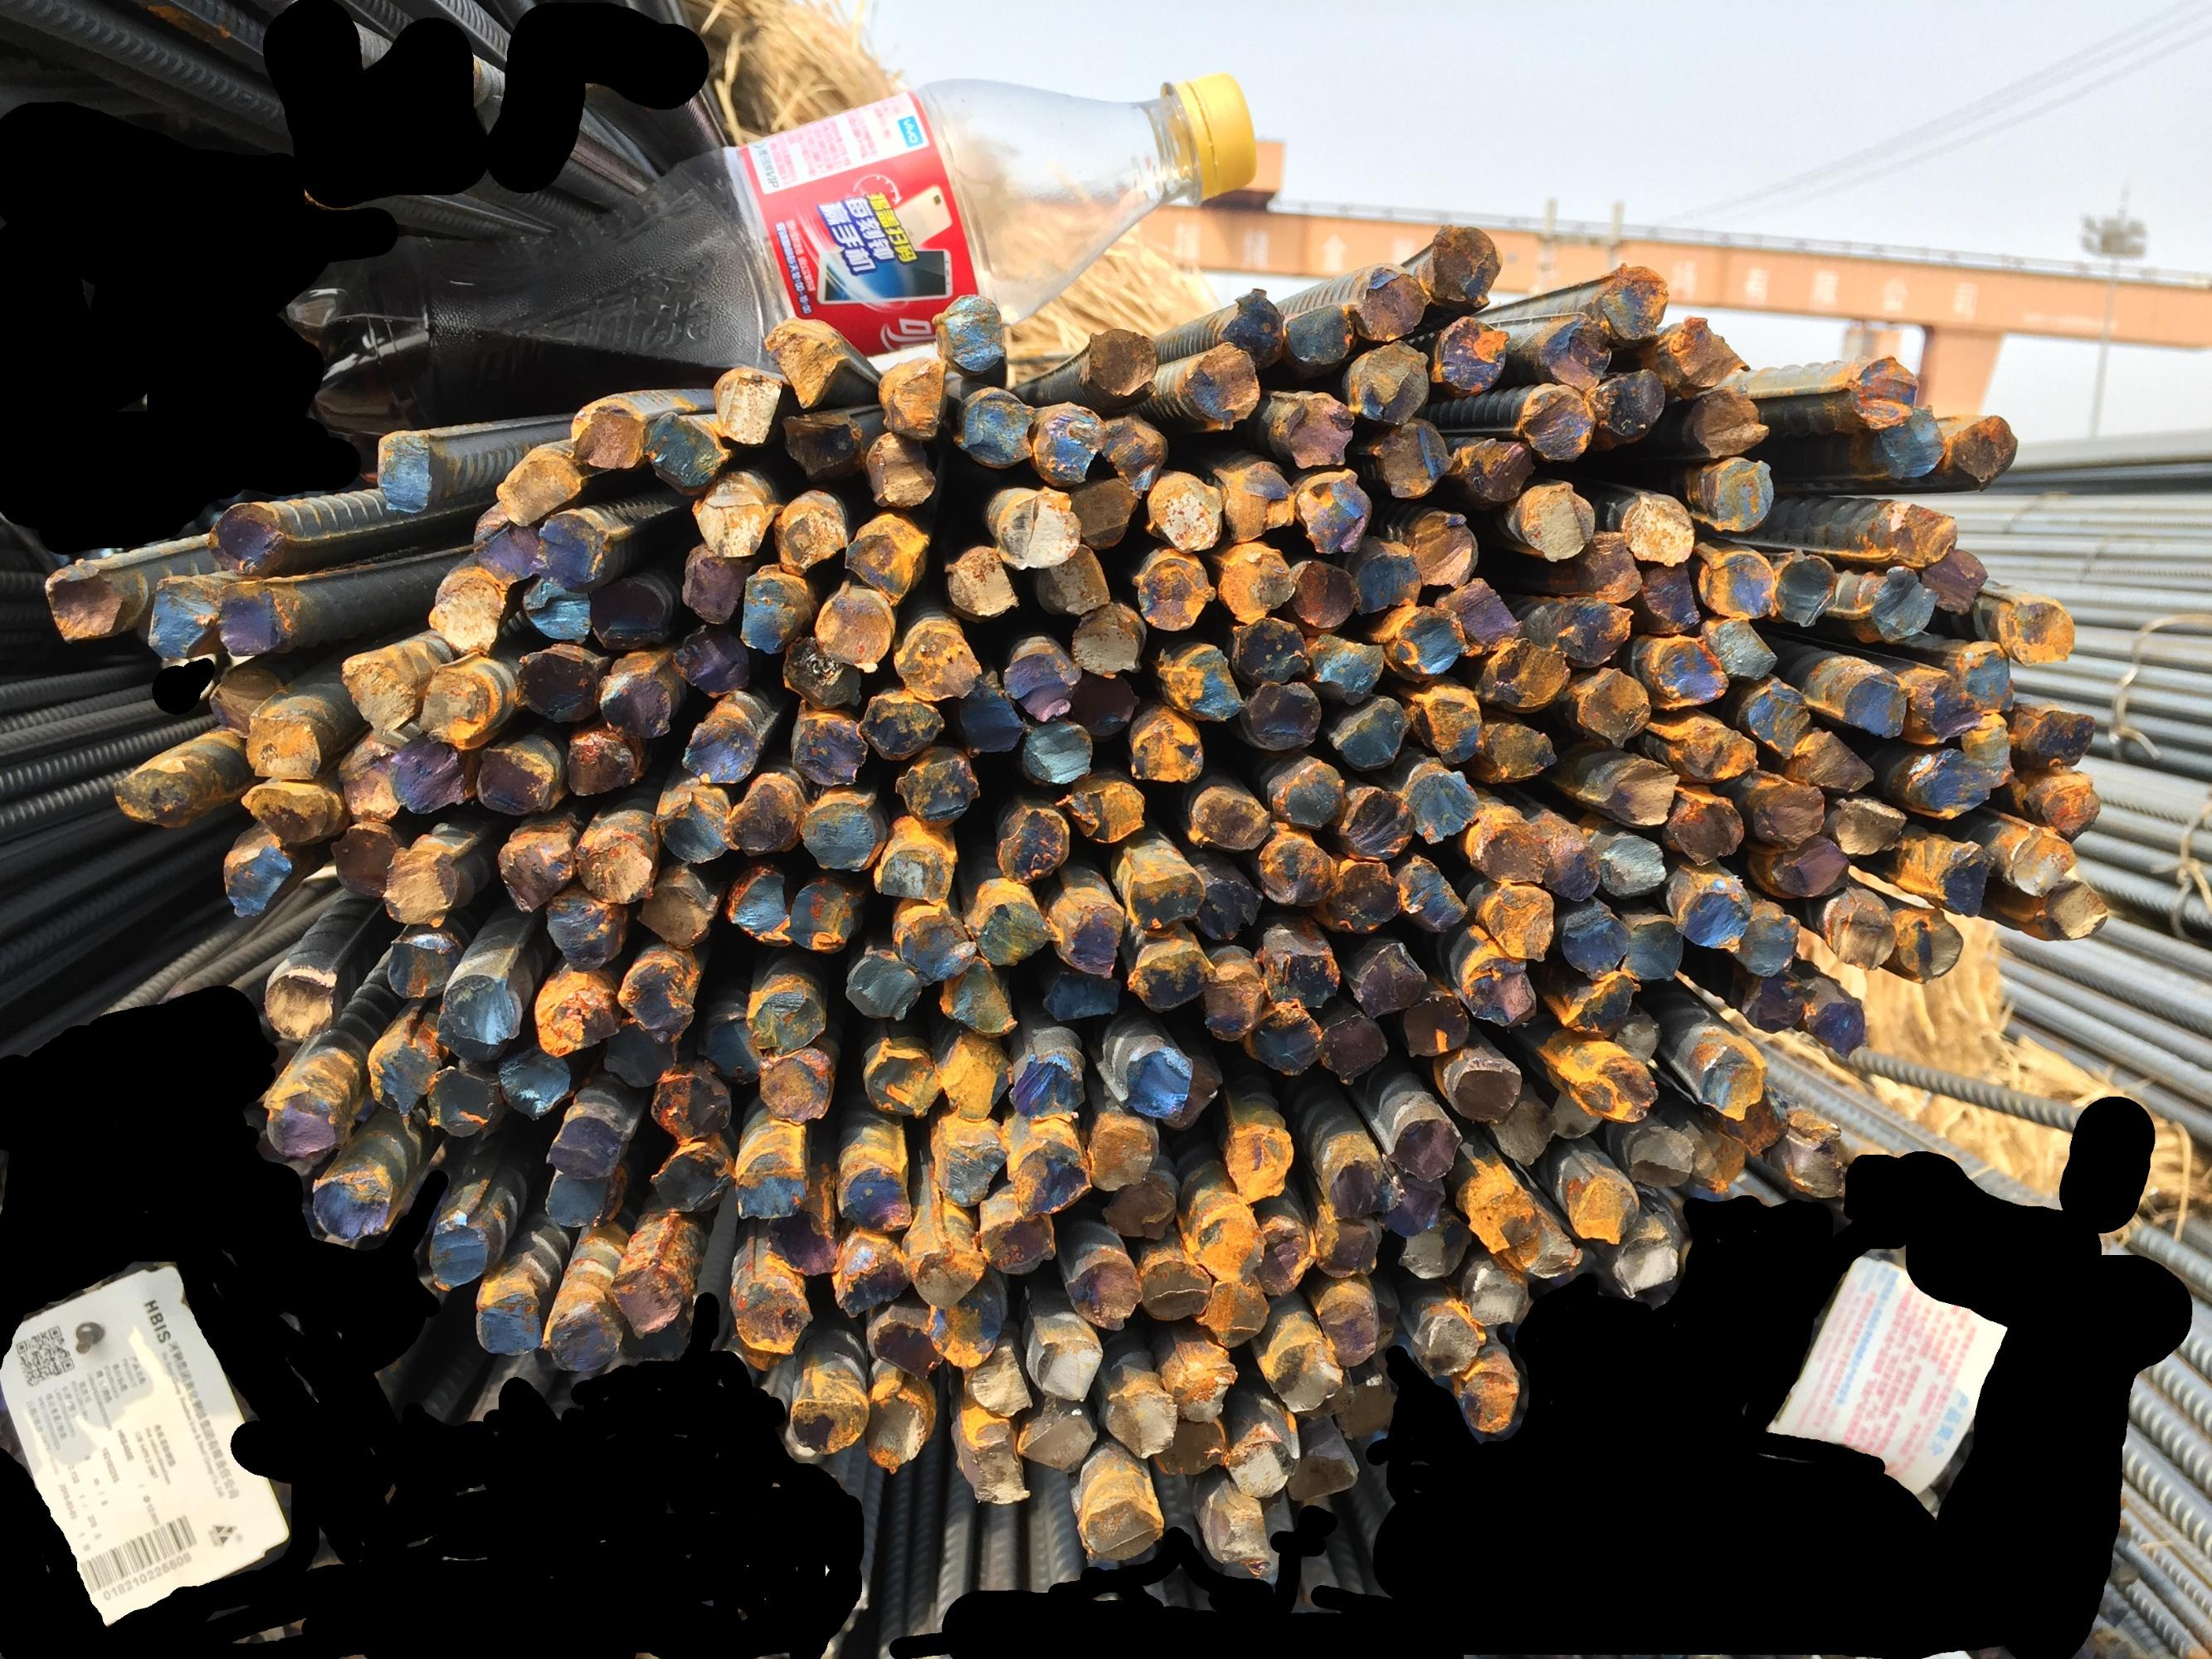bar: (844, 511, 931, 605), (427, 566, 516, 657), (40, 554, 127, 647), (762, 315, 847, 410), (526, 511, 626, 591), (812, 580, 896, 671), (995, 483, 1081, 570), (892, 744, 981, 828), (493, 446, 584, 528), (235, 779, 343, 847), (1368, 415, 1454, 500), (892, 619, 981, 701), (380, 845, 465, 929), (542, 889, 628, 972), (1347, 340, 1431, 425), (1473, 638, 1571, 711), (533, 976, 621, 1058), (690, 476, 777, 558), (788, 699, 868, 788), (261, 1084, 352, 1162), (1182, 342, 1260, 432), (495, 826, 575, 913), (387, 730, 469, 814), (643, 411, 727, 493), (1006, 1136, 1091, 1216), (1157, 643, 1245, 721), (1398, 767, 1485, 845), (1433, 575, 1520, 653), (948, 669, 1025, 758), (1661, 312, 1750, 389), (112, 758, 206, 829), (1349, 260, 1431, 342), (336, 650, 417, 734), (953, 385, 1034, 469), (512, 645, 598, 723), (891, 906, 976, 985), (1572, 666, 1651, 751), (202, 498, 289, 575), (364, 1030, 441, 1117), (417, 662, 492, 751), (938, 1033, 1013, 1122), (730, 1274, 812, 1354), (1001, 640, 1081, 721), (1060, 1251, 1142, 1331), (1429, 312, 1510, 394), (786, 1380, 870, 1459), (615, 958, 694, 1042), (1130, 554, 1215, 631), (1644, 634, 1729, 711), (1429, 221, 1504, 308), (145, 572, 218, 660), (474, 742, 563, 816), (647, 1141, 736, 1215), (436, 972, 528, 1042), (798, 791, 880, 870), (1858, 565, 1937, 647), (1865, 403, 1947, 481), (1689, 1039, 1768, 1121), (655, 781, 732, 864), (770, 491, 847, 575), (929, 293, 1006, 376), (1295, 469, 1372, 552), (310, 1168, 396, 1243), (465, 498, 540, 584), (1381, 605, 1466, 680), (1686, 383, 1771, 458), (1053, 887, 1124, 976), (940, 542, 1018, 622), (1276, 387, 1354, 467), (1142, 474, 1222, 552), (940, 957, 1018, 1037), (261, 962, 343, 1039), (1328, 694, 1410, 770), (1518, 479, 1595, 561), (678, 540, 753, 624), (779, 877, 863, 951), (1454, 953, 1537, 1028), (1126, 946, 1217, 1014), (992, 803, 1070, 882), (1839, 352, 1917, 430), (1618, 486, 1694, 566), (540, 1298, 622, 1373), (781, 634, 863, 709), (1262, 1337, 1344, 1412), (1536, 310, 1611, 392), (971, 892, 1055, 965), (777, 411, 863, 483), (858, 690, 945, 760), (1075, 1492, 1164, 1560), (608, 1262, 685, 1340), (673, 622, 751, 699), (861, 1040, 940, 1117), (1351, 941, 1428, 1019), (1907, 666, 1984, 744), (723, 775, 798, 856), (1117, 1040, 1192, 1121), (328, 819, 401, 901), (572, 829, 654, 903), (709, 364, 783, 446), (1408, 683, 1482, 765), (648, 1072, 732, 1143), (723, 864, 793, 950), (1572, 1054, 1658, 1124), (1595, 758, 1680, 828), (865, 1385, 933, 1473), (1217, 286, 1285, 373), (218, 843, 295, 920), (568, 394, 645, 471), (844, 946, 922, 1021), (1069, 601, 1147, 676), (1520, 383, 1595, 462), (959, 1424, 1030, 1506), (875, 356, 947, 437), (1947, 411, 2019, 493), (1663, 721, 1759, 782), (544, 1110, 628, 1180), (1035, 401, 1105, 484), (743, 986, 828, 1054), (1762, 831, 1849, 897), (833, 1243, 910, 1317), (1217, 547, 1293, 622), (1564, 1169, 1640, 1244), (497, 1040, 570, 1119), (1408, 1304, 1487, 1377), (1306, 633, 1384, 706), (1696, 544, 1774, 617), (336, 735, 401, 824), (589, 575, 669, 647), (1259, 835, 1339, 906), (1598, 260, 1670, 340), (1914, 746, 1994, 817), (242, 709, 324, 779), (903, 1239, 985, 1309), (634, 880, 716, 950), (1877, 498, 1959, 568), (737, 563, 798, 655), (927, 1293, 1002, 1368), (758, 1051, 833, 1126), (1102, 1168, 1177, 1243), (1102, 1382, 1177, 1457), (1670, 791, 1745, 866), (1835, 666, 1910, 741), (207, 666, 284, 739), (598, 666, 675, 739), (866, 1307, 943, 1380), (1222, 467, 1295, 544), (1462, 1178, 1539, 1251), (833, 1161, 912, 1232), (865, 430, 936, 509), (1483, 884, 1555, 962), (1229, 615, 1309, 685), (1673, 880, 1754, 950), (694, 1004, 762, 1086), (1743, 676, 1811, 758), (678, 716, 762, 782), (1328, 861, 1401, 936), (1591, 364, 1665, 439), (2003, 591, 2076, 666), (938, 1131, 1009, 1208), (1088, 1115, 1159, 1192), (2001, 824, 2078, 896), (373, 427, 436, 514), (1018, 1405, 1096, 1474), (1558, 901, 1628, 979), (1747, 775, 1825, 845), (1410, 507, 1478, 587), (1454, 436, 1536, 502), (736, 1147, 809, 1220), (959, 1344, 1032, 1417), (872, 842, 957, 904), (424, 1065, 495, 1140), (601, 1016, 676, 1087), (1028, 1328, 1103, 1399), (1825, 894, 1896, 969), (1128, 714, 1204, 784), (1224, 1126, 1293, 1202), (1245, 681, 1321, 751), (1386, 1112, 1462, 1182), (216, 579, 284, 657), (1243, 1009, 1321, 1077), (1555, 598, 1633, 666), (1008, 1053, 1088, 1119), (1557, 972, 1640, 1035), (1271, 756, 1344, 828), (1084, 328, 1159, 397), (1035, 544, 1110, 613), (1191, 1211, 1265, 1281), (1346, 784, 1415, 859), (1705, 457, 1774, 532), (1473, 816, 1550, 884), (1400, 856, 1468, 932), (1895, 906, 1963, 983), (1184, 789, 1269, 850), (565, 730, 643, 796), (2024, 772, 2102, 838), (1105, 413, 1170, 493), (427, 1209, 490, 1291), (1253, 1213, 1314, 1297), (765, 1208, 840, 1276), (1321, 1011, 1389, 1086), (1396, 1211, 1471, 1279), (1951, 638, 2017, 714), (1482, 718, 1560, 782), (1124, 866, 1204, 929), (1774, 547, 1837, 627), (1933, 838, 1996, 918), (383, 932, 455, 1002), (521, 573, 591, 645), (471, 1286, 542, 1356), (1198, 1279, 1269, 1349), (1290, 558, 1358, 631), (1069, 476, 1137, 549), (1607, 1229, 1680, 1297), (978, 1211, 1055, 1276), (1797, 728, 1874, 793), (542, 1168, 622, 1229), (1733, 906, 1801, 978), (1515, 1209, 1583, 1279), (1487, 1096, 1555, 1166), (1917, 547, 1989, 613), (1206, 1502, 1271, 1575), (2022, 704, 2095, 769), (1327, 1157, 1401, 1220), (1832, 793, 1907, 856), (1581, 528, 1642, 605), (1194, 875, 1262, 943), (1452, 1056, 1520, 1124), (1351, 547, 1421, 613), (1168, 1354, 1238, 1420), (1400, 992, 1469, 1058), (1600, 829, 1666, 899), (1069, 673, 1140, 737), (1020, 720, 1091, 784), (2038, 877, 2109, 941), (1138, 1258, 1211, 1321), (1201, 967, 1264, 1040), (1265, 946, 1340, 1007), (1225, 1438, 1300, 1499), (1703, 617, 1778, 678), (1069, 782, 1145, 842), (1454, 1364, 1520, 1432), (1625, 1124, 1694, 1188), (1283, 301, 1354, 364), (1161, 1058, 1222, 1131), (1719, 1087, 1785, 1154), (432, 1007, 511, 1063), (1639, 561, 1700, 633), (1314, 1215, 1381, 1279), (1740, 969, 1806, 1033), (1802, 992, 1867, 1058), (1959, 711, 2015, 786), (1335, 1371, 1396, 1439), (1157, 1413, 1227, 1473), (1318, 1297, 1377, 1366), (1042, 969, 1123, 1019), (1621, 913, 1680, 981), (1543, 831, 1602, 899), (1462, 1265, 1529, 1324), (1377, 1178, 1445, 1236), (1787, 1136, 1848, 1199), (1689, 1126, 1745, 1194), (1285, 1452, 1358, 1502), (1290, 1366, 1354, 1419), (1799, 1107, 1851, 1166), (1551, 1089, 1605, 1140), (1609, 1018, 1661, 1065), (1370, 1297, 1400, 1352), (1652, 1208, 1682, 1251)
